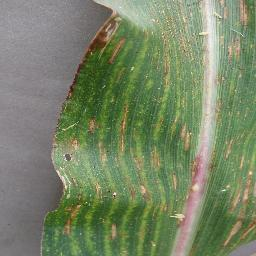Gray_Leaf_Spot: (72, 2, 131, 61), (198, 0, 218, 153), (55, 50, 81, 159), (224, 175, 256, 256), (216, 0, 256, 59), (219, 134, 256, 179), (184, 147, 218, 193), (44, 163, 77, 209), (162, 19, 175, 83), (82, 107, 110, 134), (116, 96, 130, 150), (90, 183, 123, 204), (62, 202, 81, 233), (177, 120, 196, 150), (166, 167, 185, 195), (129, 144, 151, 168), (169, 209, 194, 228), (107, 219, 123, 247), (146, 140, 160, 171), (92, 140, 110, 163), (135, 180, 154, 198)
